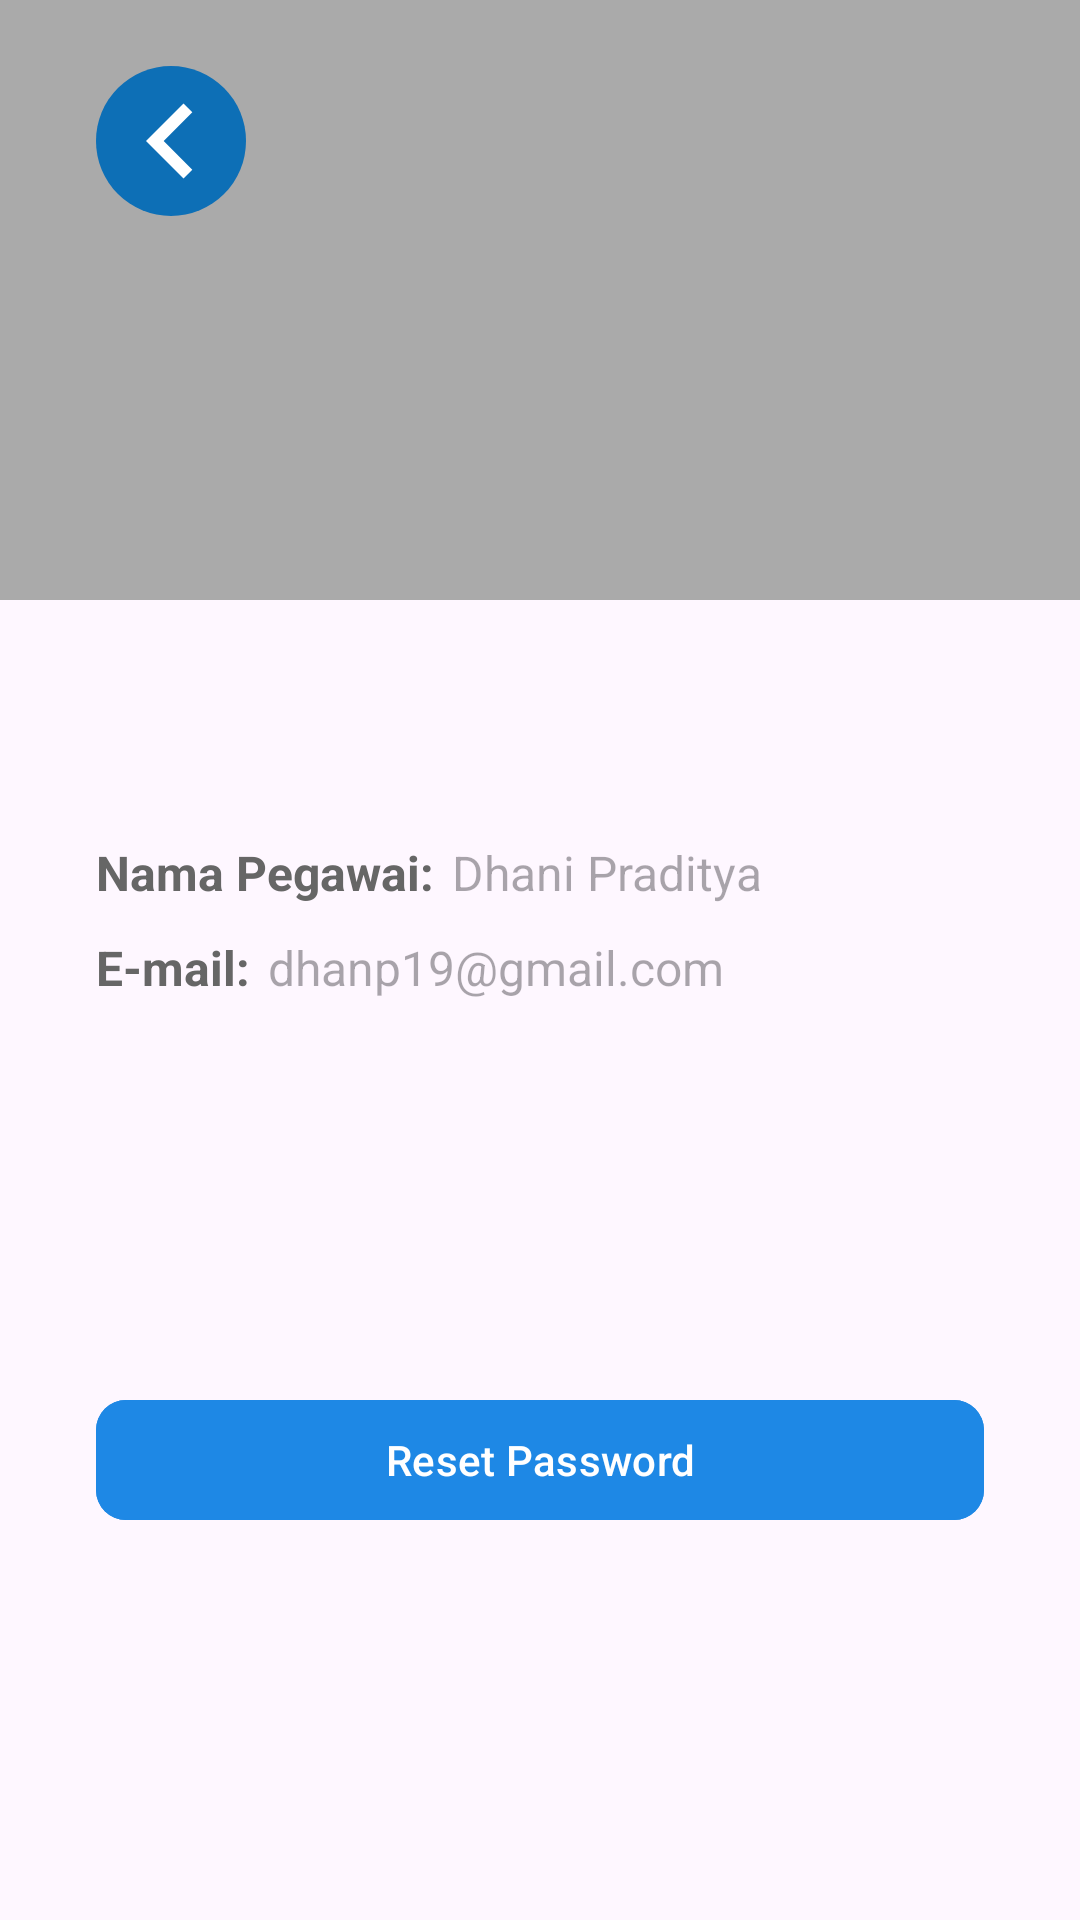

Where icons sit on this 1080x1920 app screen, as (x1, y1, x2, y2):
back: (96, 66, 246, 216)
